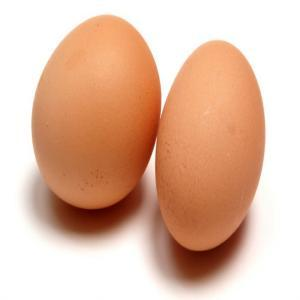Egg: (31, 12, 162, 213), (154, 38, 267, 252)
